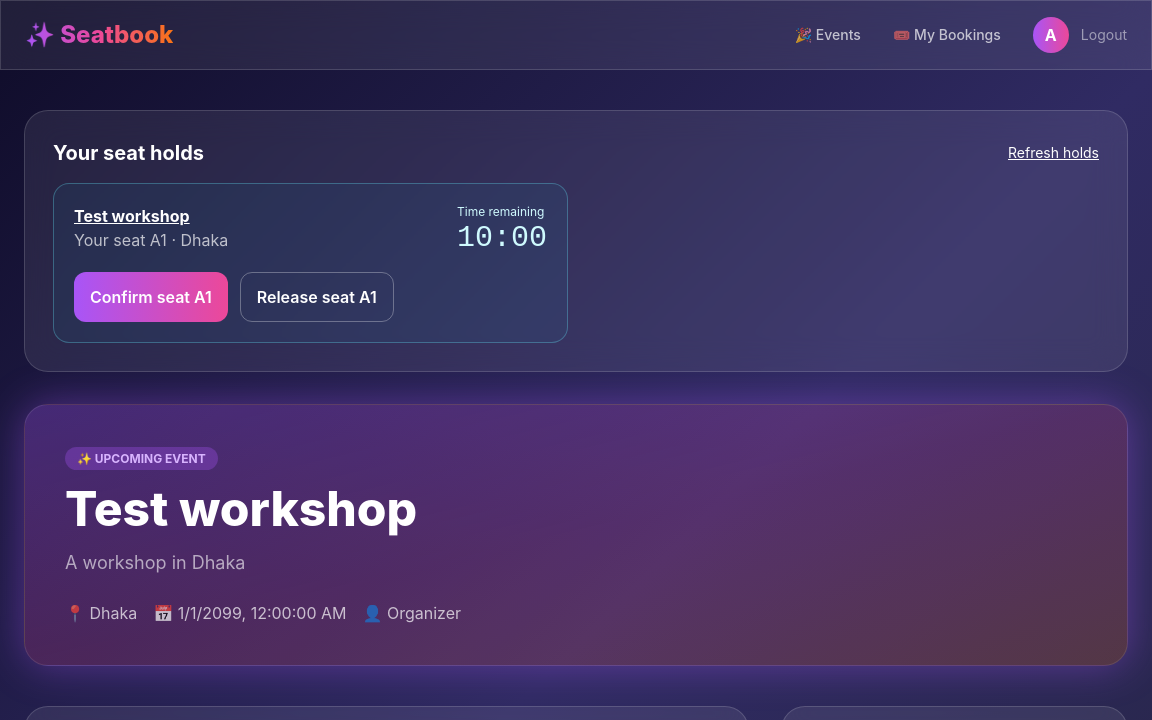
handles rejected confirm without claiming success
Click the button "Confirm seat A1". click: (151, 297)
box: [74, 272, 228, 322]
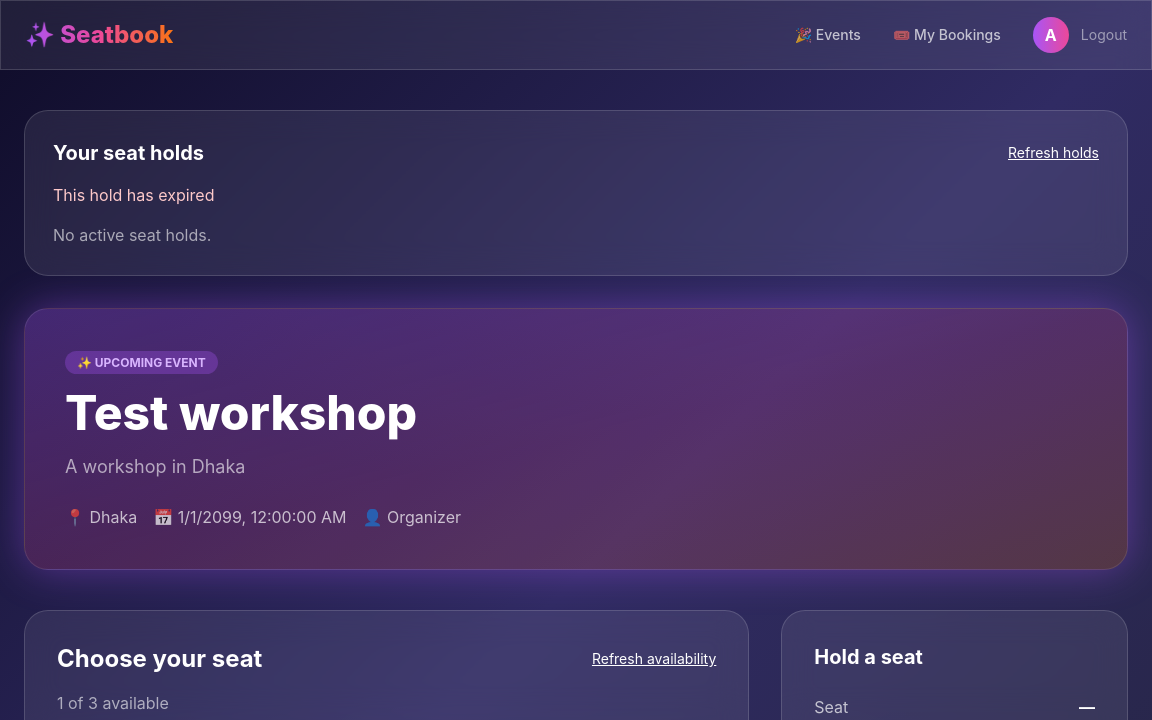
Expected: the message shows "expired", [53, 185, 214, 205]
